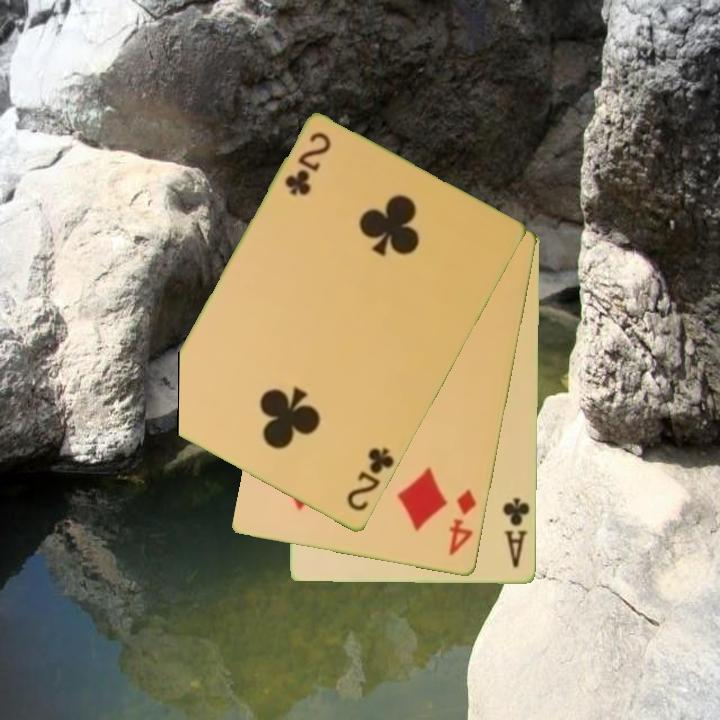2c: (343, 444, 397, 515), (281, 129, 335, 199)
4d: (445, 486, 480, 559)
Ac: (499, 494, 532, 571)
